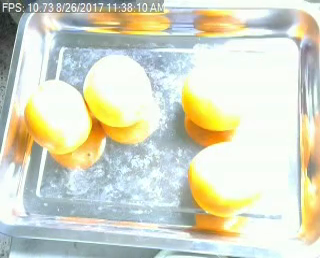Orange: (190, 141, 267, 214), (24, 77, 92, 153), (83, 54, 152, 126), (183, 62, 255, 131)
